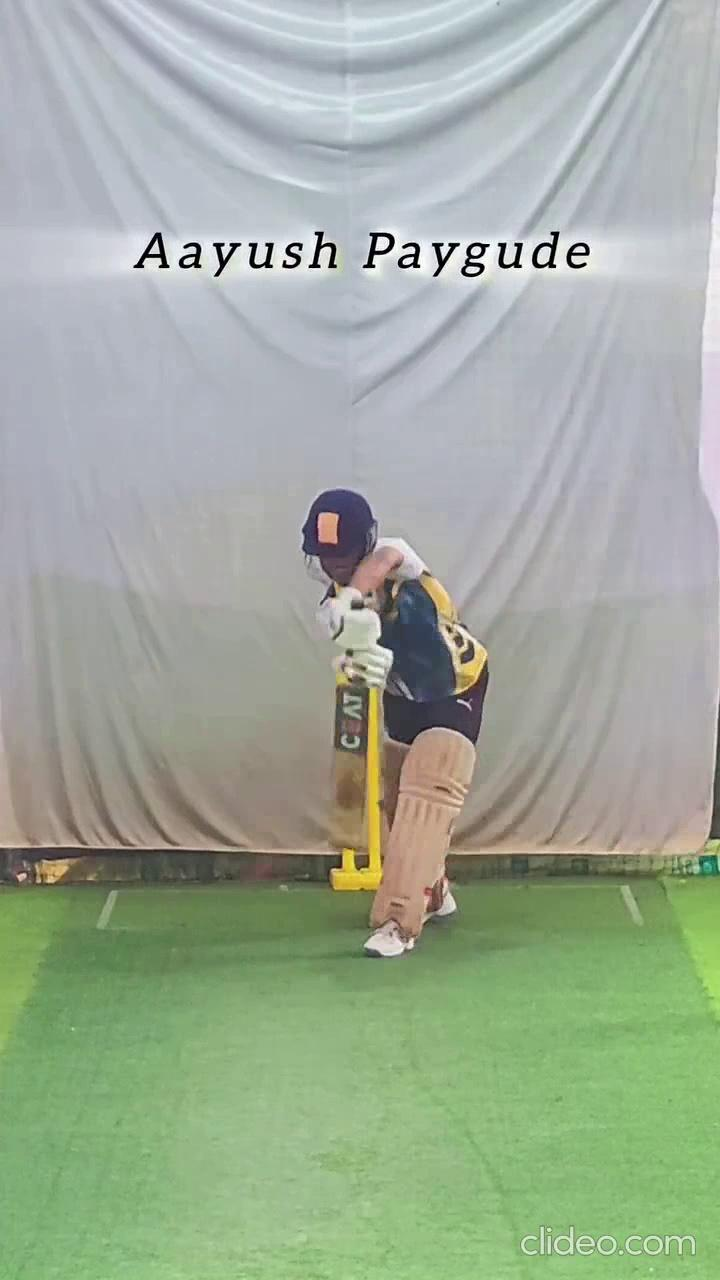bat: (326, 682, 372, 853)
